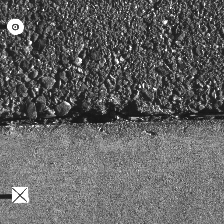circle: (7, 19, 24, 34)
crack: (1, 107, 223, 128)
square: (11, 187, 28, 202)
